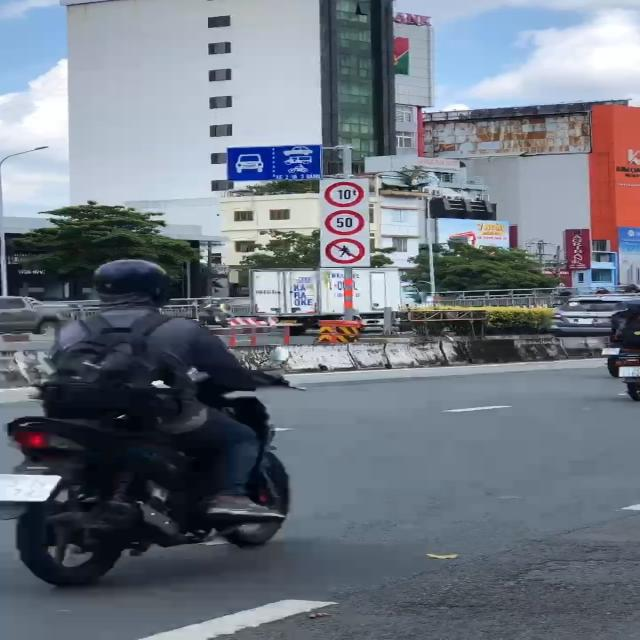Bien bao cam nguoi di bo: (322, 237, 368, 264)
Bien bao toc do toi da cho phep: (322, 209, 369, 236)
